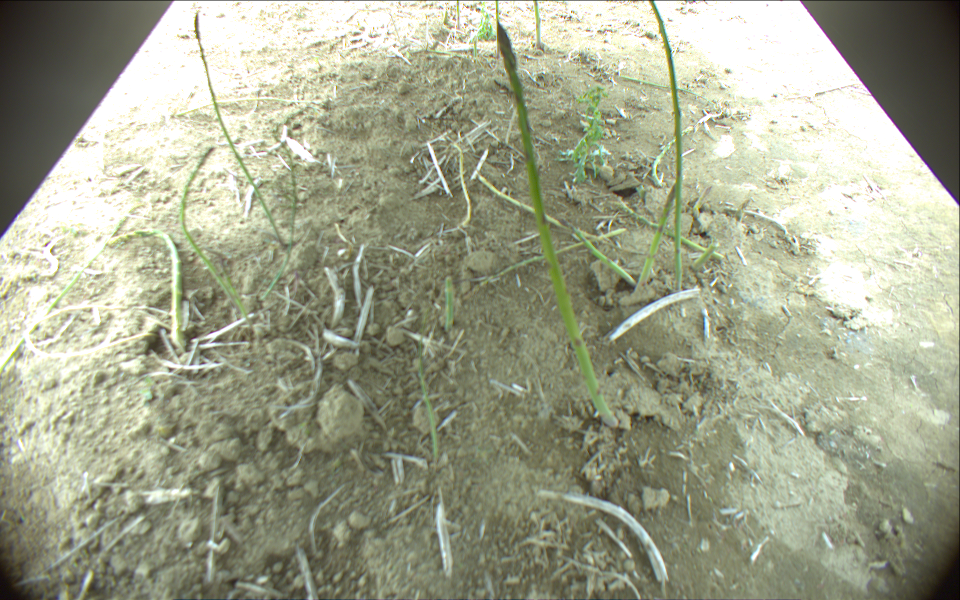aspa: (496, 24, 621, 428), (1, 212, 128, 377), (194, 13, 283, 243), (644, 1, 683, 292), (180, 145, 244, 322), (105, 229, 182, 347), (488, 229, 626, 279), (260, 142, 298, 300), (562, 219, 637, 286), (478, 176, 560, 227), (639, 182, 678, 287), (418, 324, 438, 464), (616, 74, 702, 99), (666, 229, 724, 261), (451, 140, 471, 229), (442, 275, 455, 338), (691, 244, 716, 270), (532, 1, 542, 46), (694, 185, 709, 213), (492, 1, 501, 26), (445, 1, 451, 23), (455, 1, 460, 26)
